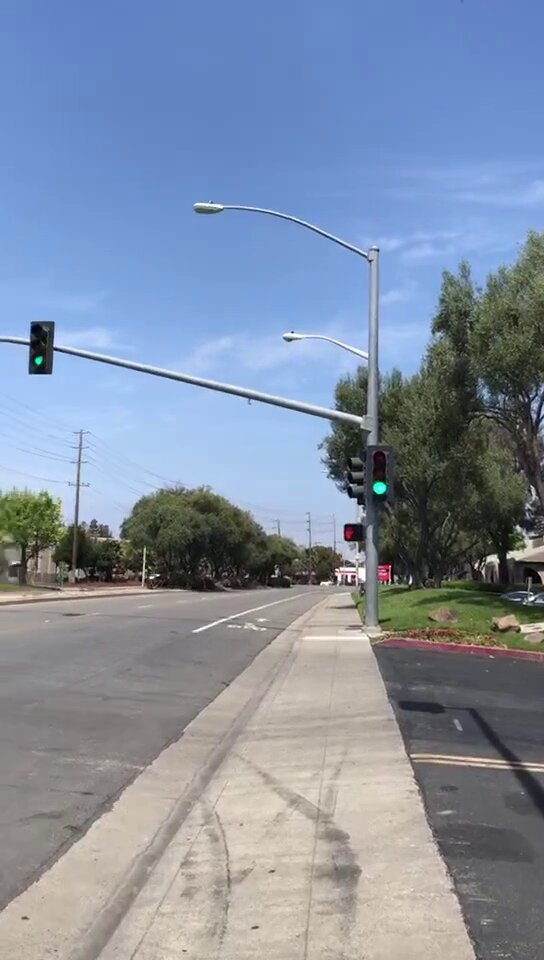green_light: (367, 448, 392, 501), (31, 324, 54, 372)
